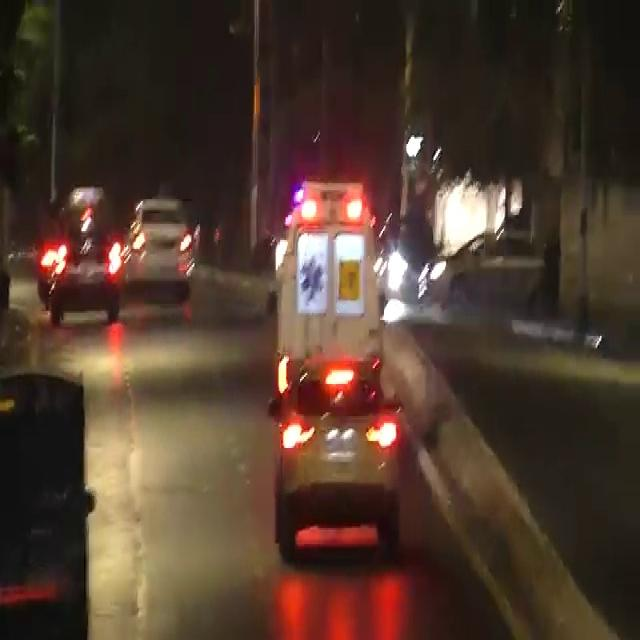fire brigade: (252, 168, 376, 366)
